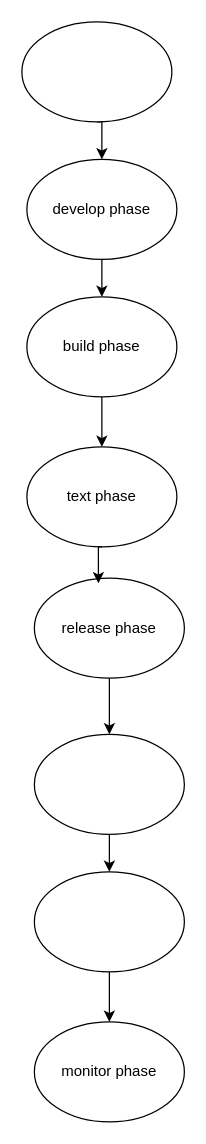
This 206x1144 diagram has some shape labels left out. The shapes that lost their labels are listed below. From the top down, each one's centre as x and y in pixels, then its label:
(96,71): plan phase
(108,783): deploy phase
(108,921): operate phase
